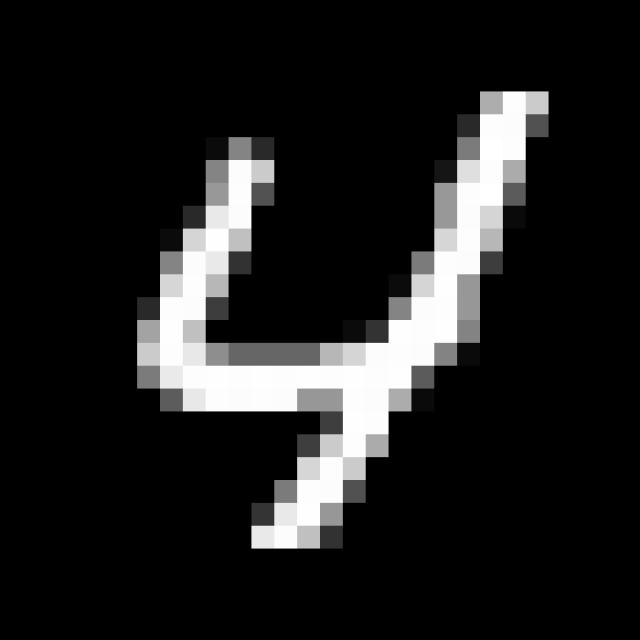four -4-: (117, 66, 571, 579)
